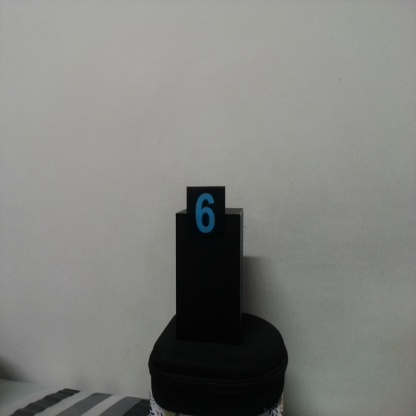id_6: (185, 187, 227, 251)
